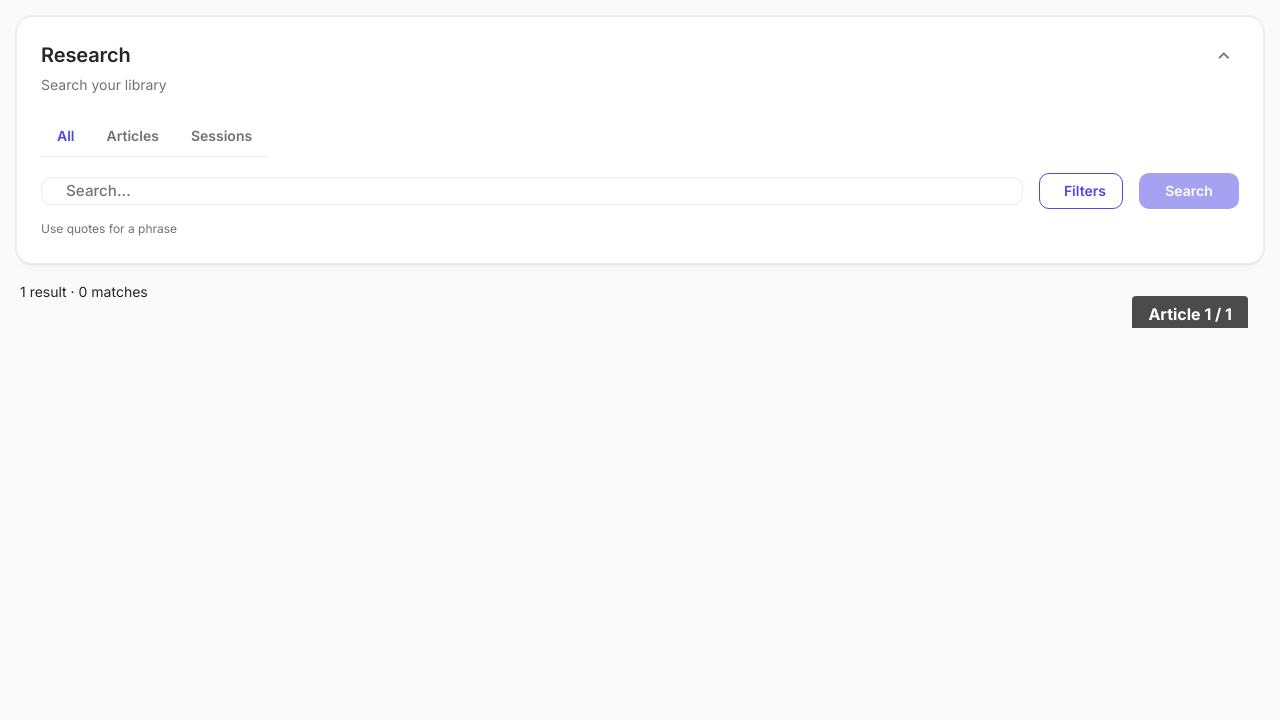
it: Research View › session-derived filters › loads session group, year, and type filters
Click the button "Filters" at x=1081, y=191, box [1039,173,1123,209]
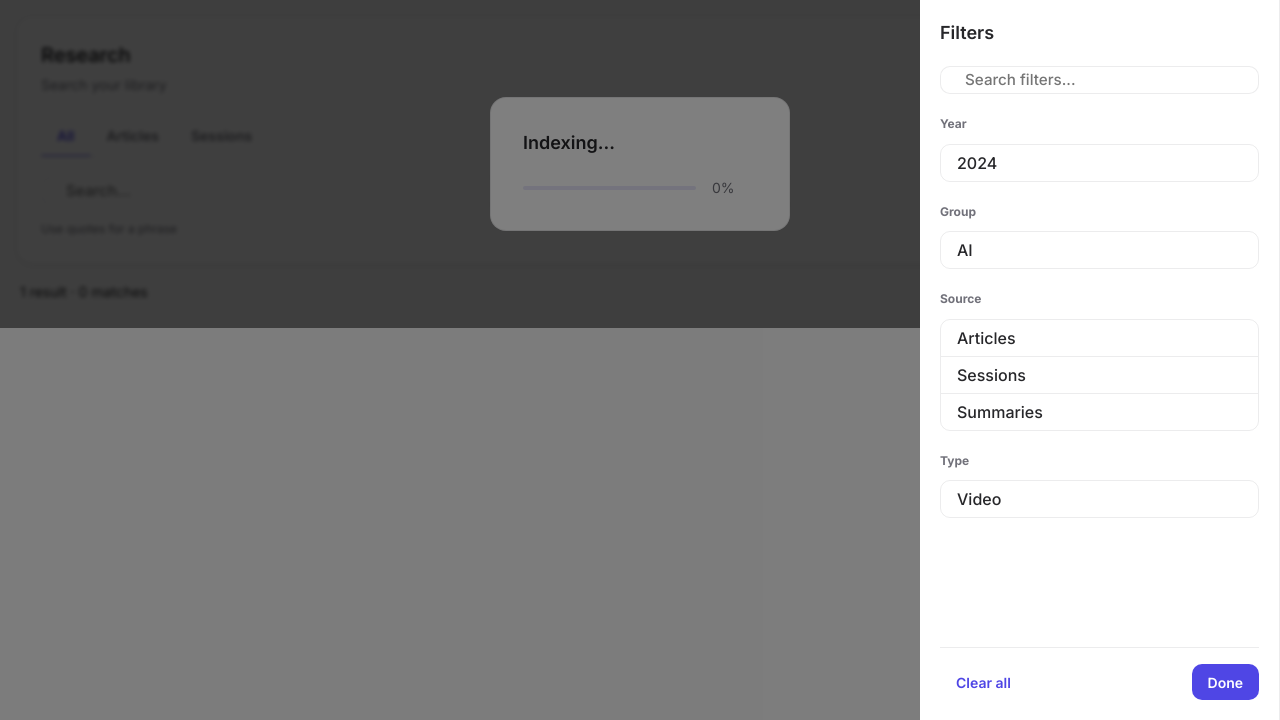
Expected: the button "AI" is shown, [941,232,1258,268]
Expected: the button "2024" is shown, [941,145,1258,181]
Expected: the button "Video" is shown, [941,481,1258,517]
